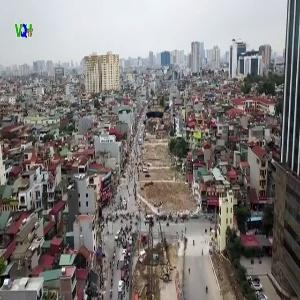drone: (131, 88, 179, 136)
